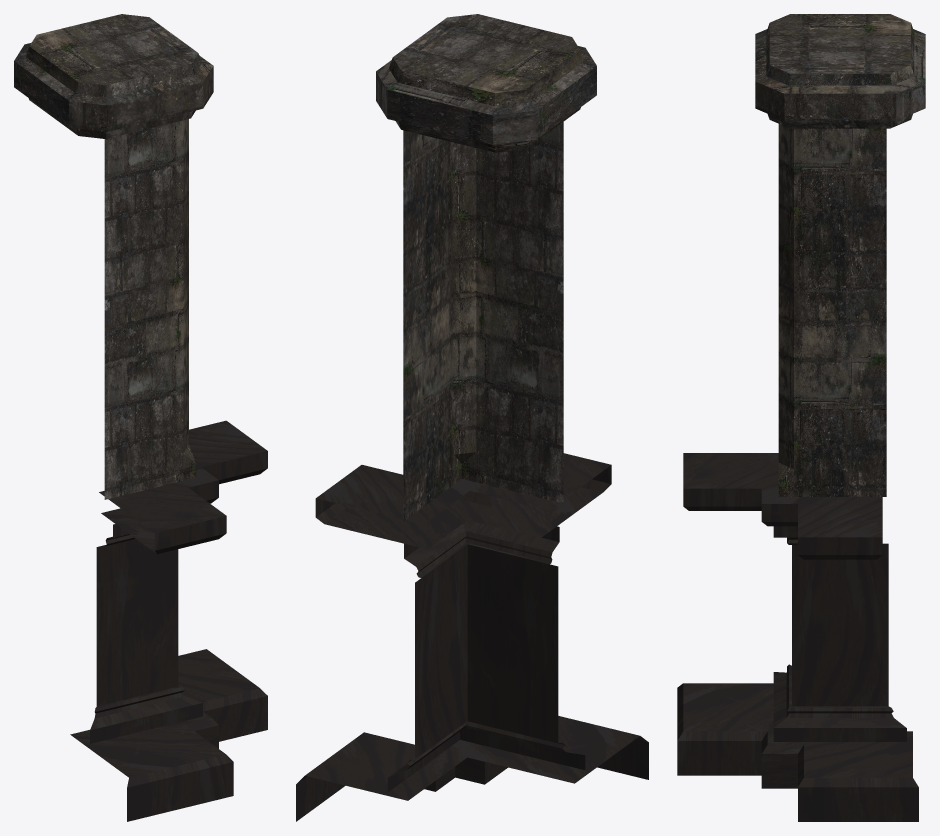
File: corner_coulmn.fbx
3 views of the same model, side by side, from view 1: azimuth 30°, elevation 25°; view 2: azimuth 150°, elevation 25°; view 3: azimuth 270°, elevation 25° (orthographic). The views are drawn at different scales.
Parts seen in each view (by area): view 1: [Imported] corner; view 2: [Imported] corner; view 3: [Imported] corner.
Boxes of the visible parts, x1,y1,x2,y2 form: [Imported] corner: (14,14,267,821); [Imported] corner: (296,14,648,821); [Imported] corner: (677,14,925,821).
Bounding box in the file's own units: 395 × 1280 × 404.
Materials: 2 (2 with a texture image).
